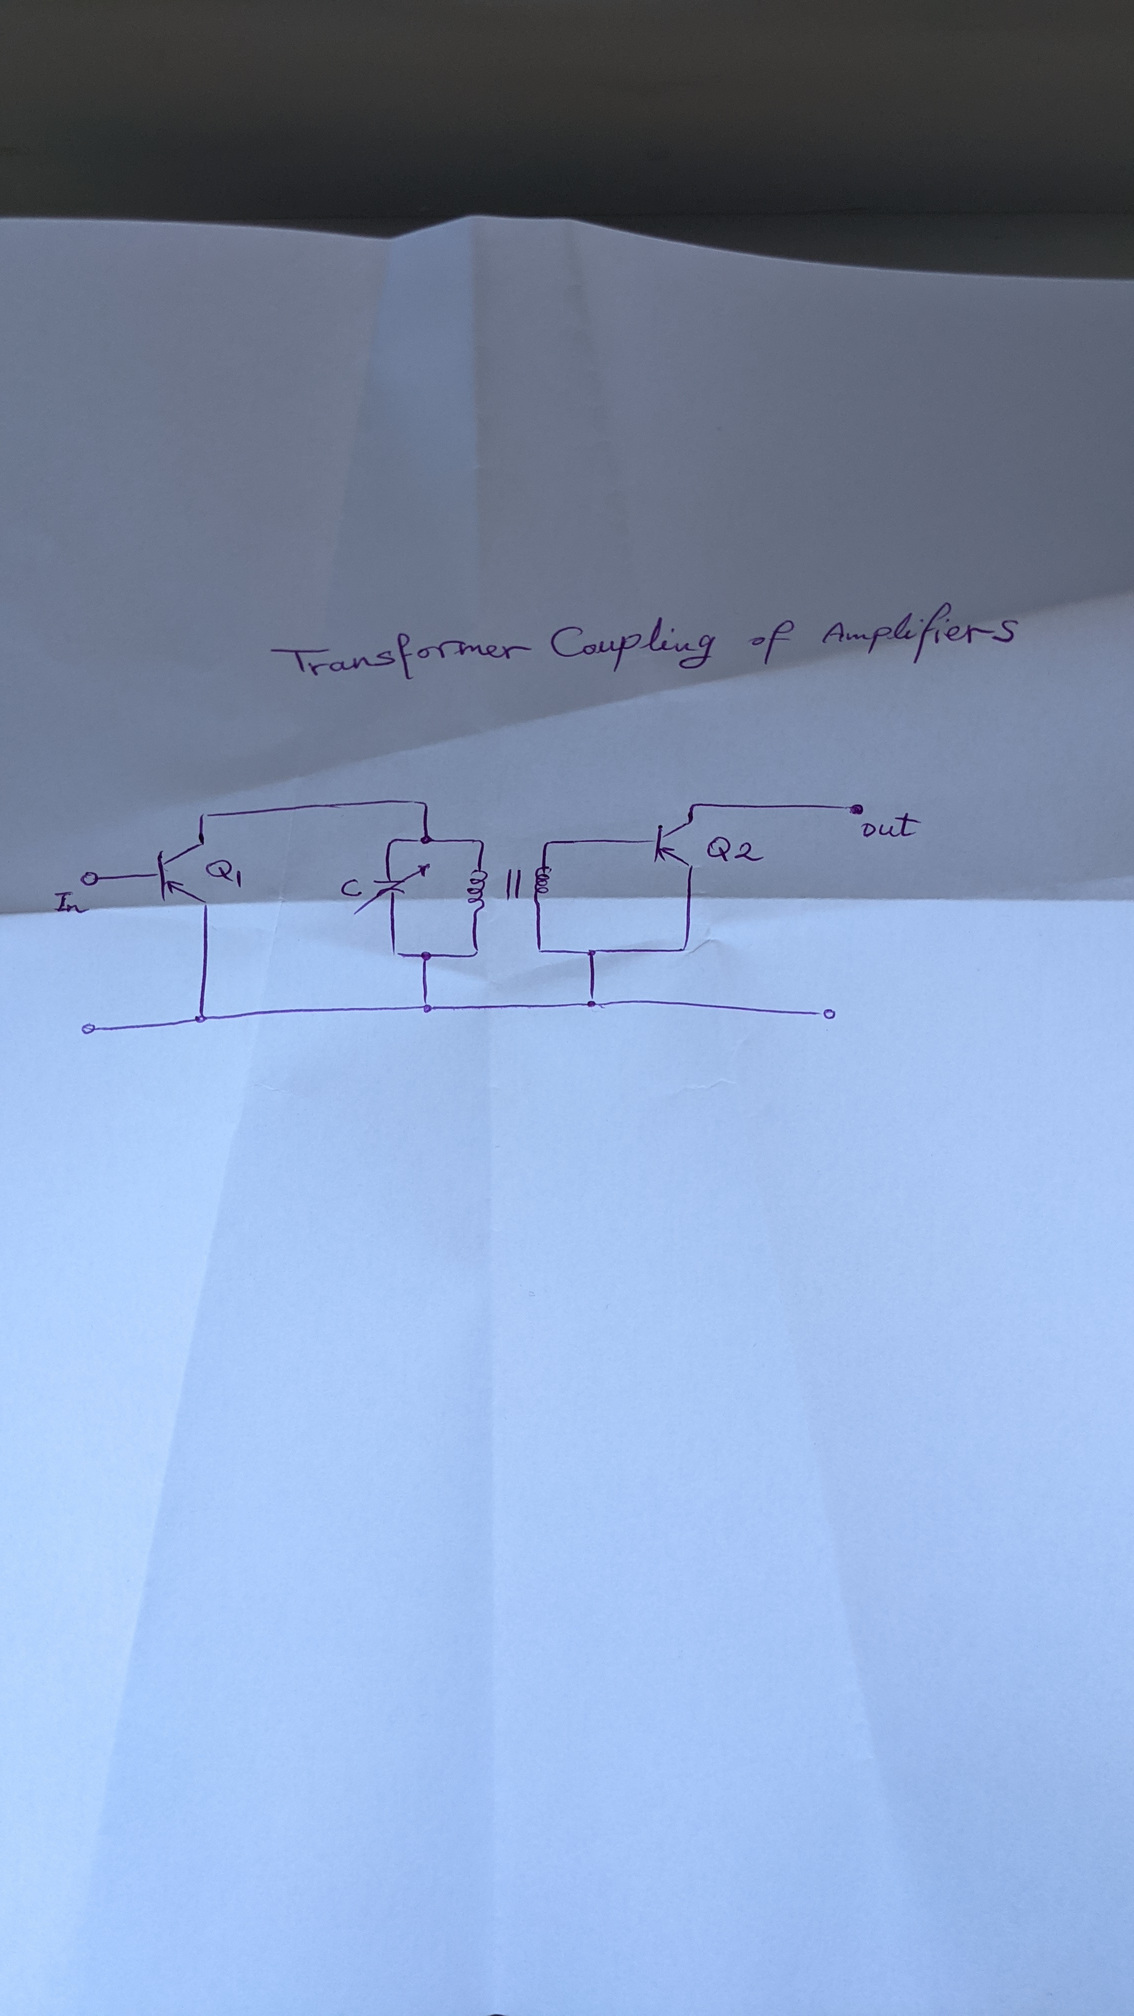capacitor.unpolarized: (352, 863, 432, 915)
junction: (583, 993, 604, 1011), (418, 998, 436, 1015), (417, 831, 438, 845), (192, 1011, 210, 1026), (410, 798, 433, 809), (418, 948, 435, 964), (469, 944, 483, 960), (389, 947, 403, 961), (687, 798, 701, 811), (584, 947, 600, 960), (197, 810, 210, 822), (385, 835, 397, 847), (475, 835, 487, 847), (678, 942, 690, 954), (534, 944, 546, 955)
terminal: (813, 1007, 840, 1022), (79, 870, 101, 888), (839, 802, 865, 816), (80, 1020, 97, 1036)
text: (267, 600, 1022, 683), (705, 834, 767, 864), (860, 810, 924, 838), (204, 857, 244, 889), (53, 889, 90, 915), (339, 876, 363, 899)
transformer: (465, 864, 555, 914)
transistor: (152, 836, 212, 910), (647, 816, 696, 872)
